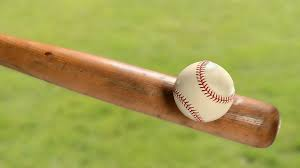baseball bat: (1, 31, 280, 148)
